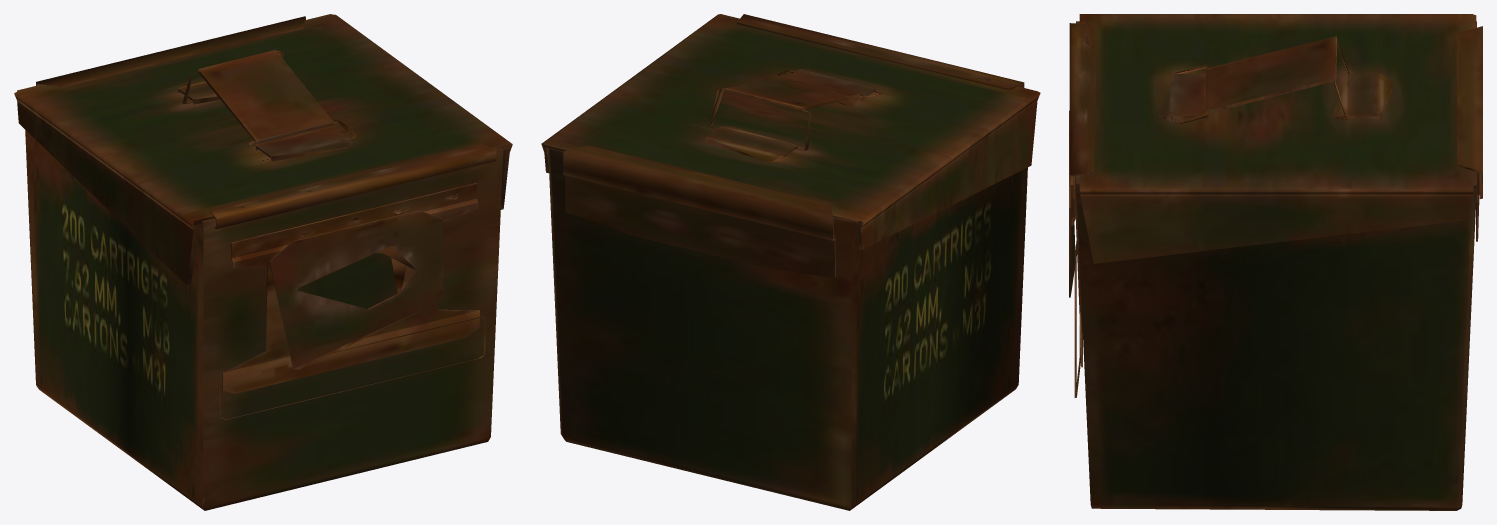
Rendered from carry.glb.
The picture shows the model from 3 angles, left to right: view 1: azimuth 30°, elevation 25°; view 2: azimuth 150°, elevation 25°; view 3: azimuth 270°, elevation 25°; orthographic projection. The views are drawn at different scales.
Parts seen in each view (by area): view 1: ammo_box_handle_ring_b; view 2: ammo_box_handle_ring_b; view 3: ammo_box_handle_ring_b.
Part boxes in pixels (x1=…): ammo_box_handle_ring_b: x1=14, y1=14, x2=512, y2=510; ammo_box_handle_ring_b: x1=541, y1=14, x2=1040, y2=510; ammo_box_handle_ring_b: x1=1069, y1=14, x2=1482, y2=510.
Bounding box in the file's own units: 0.9998 × 0.9999 × 1.
1 material, 1 textured.
